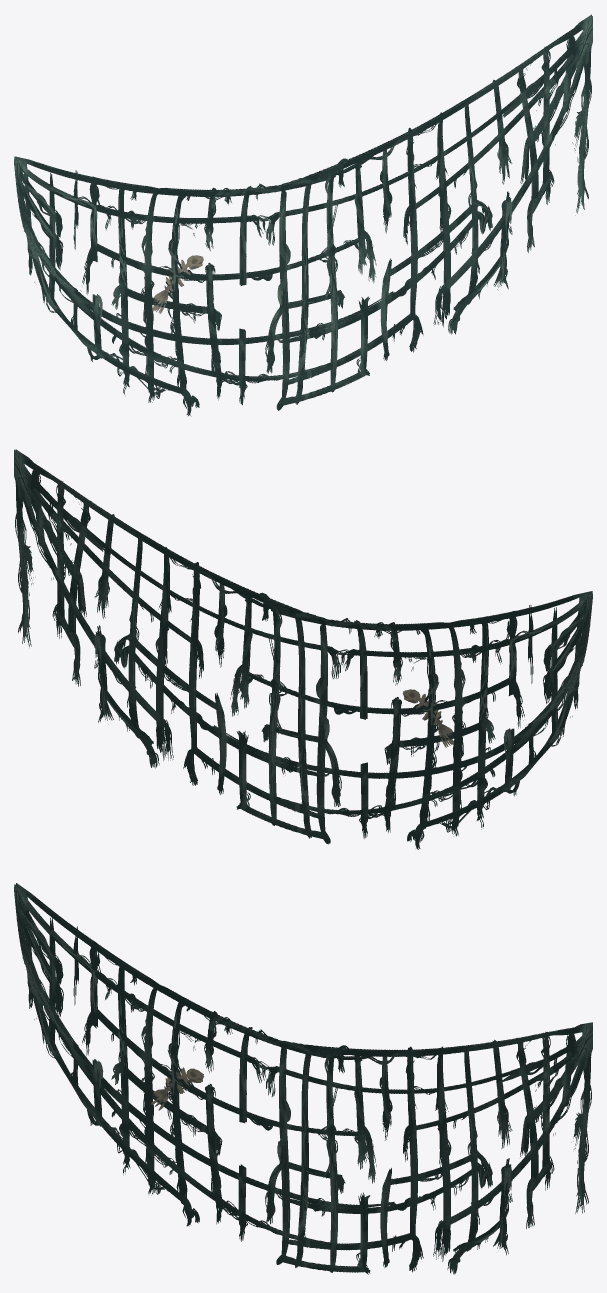
File: Fish_net06.fbx
3 views of the same model, one above another, from view 1: azimuth 30°, elevation 25°; view 2: azimuth 150°, elevation 25°; view 3: azimuth 330°, elevation 25° (orthographic).
Visible parts, largest first — view 1: Fish_net06; view 2: Fish_net06; view 3: Fish_net06.
Part boxes in pixels (bbox=[...]): Fish_net06: bbox=[14, 14, 592, 416]; Fish_net06: bbox=[14, 449, 592, 849]; Fish_net06: bbox=[14, 883, 592, 1274].
Bounding box in the file's own units: 5.24 × 2.81 × 0.0212.
1 material, 1 textured.
